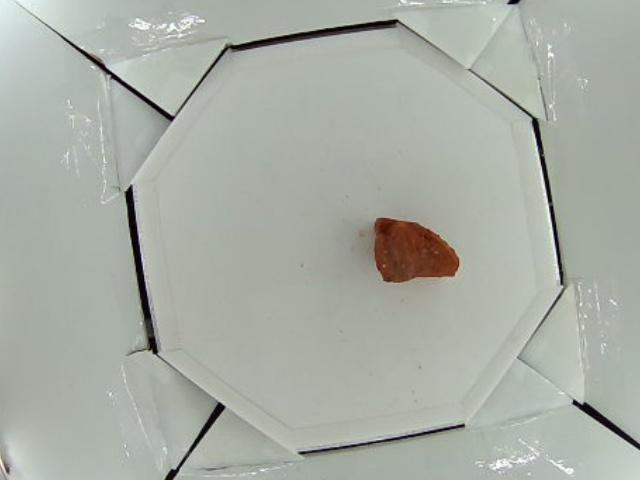Brisk: (373, 218, 463, 283)
